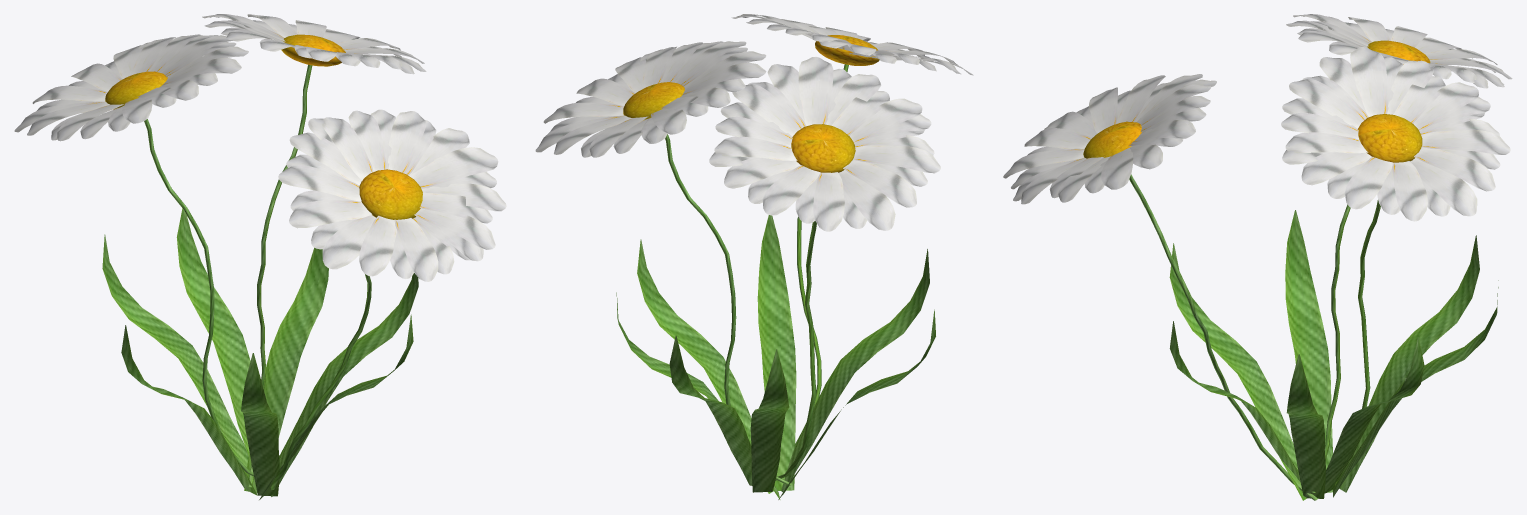
Rendered from Flower.FBX.
The picture shows the model from 3 angles, left to right: view 1: azimuth 30°, elevation 25°; view 2: azimuth 150°, elevation 25°; view 3: azimuth 270°, elevation 25°; orthographic projection.
Visible parts, largest first — view 1: Plane001, Plane007, Plane002, Plane004, Plane006, Sphere001, petalo, Plane003, petalo012, Cylinder002, petalo014, petalo007 (+32 smaller); view 2: Plane005, Plane004, Plane006, Plane002, Sphere002, Plane001, petalo025, petalo035, petalo042, petalo044, petalo037, petalo039 (+36 smaller); view 3: Plane003, Plane004, Plane002, Plane006, Sphere003, Plane007, petalo050, Plane001, Cylinder001, petalo060, petalo067, petalo069 (+32 smaller).
Part boxes in pixels (x1=…): Plane001: x1=176, y1=208, x2=250, y2=455; Plane007: x1=244, y1=247, x2=328, y2=492; Plane002: x1=102, y1=234, x2=248, y2=474; Plane004: x1=241, y1=353, x2=279, y2=496; Plane006: x1=271, y1=273, x2=418, y2=496; Sphere001: x1=359, y1=169, x2=422, y2=219; petalo: x1=409, y1=147, x2=498, y2=188; Plane003: x1=121, y1=325, x2=257, y2=495; petalo012: x1=289, y1=200, x2=372, y2=228; Cylinder002: x1=144, y1=119, x2=253, y2=476; petalo014: x1=278, y1=165, x2=361, y2=201; petalo007: x1=388, y1=111, x2=425, y2=173; Plane005: x1=757, y1=215, x2=796, y2=490; Plane004: x1=781, y1=249, x2=929, y2=492; Plane006: x1=637, y1=239, x2=773, y2=493; Plane002: x1=750, y1=349, x2=789, y2=492; Sphere002: x1=791, y1=124, x2=855, y2=172; Plane001: x1=669, y1=335, x2=752, y2=485; petalo025: x1=798, y1=57, x2=833, y2=126; petalo035: x1=838, y1=170, x2=895, y2=230; petalo042: x1=853, y1=145, x2=940, y2=173; petalo044: x1=843, y1=160, x2=916, y2=207; petalo037: x1=813, y1=172, x2=844, y2=231; petalo039: x1=762, y1=165, x2=820, y2=215; Plane003: x1=1285, y1=210, x2=1332, y2=492; Plane004: x1=1169, y1=243, x2=1306, y2=500; Plane002: x1=1335, y1=235, x2=1479, y2=492; Plane006: x1=1286, y1=354, x2=1325, y2=498; Sphere003: x1=1357, y1=114, x2=1422, y2=162; Plane007: x1=1324, y1=337, x2=1424, y2=493; petalo050: x1=1350, y1=47, x2=1387, y2=116; Plane001: x1=1333, y1=280, x2=1498, y2=497; Cylinder001: x1=1129, y1=174, x2=1317, y2=500; petalo060: x1=1410, y1=158, x2=1477, y2=216; petalo067: x1=1421, y1=129, x2=1510, y2=154; petalo069: x1=1414, y1=147, x2=1495, y2=191.
Size of the model in its own units: 46.53 by 52.71 by 54.64.
3 materials, 3 textured.
